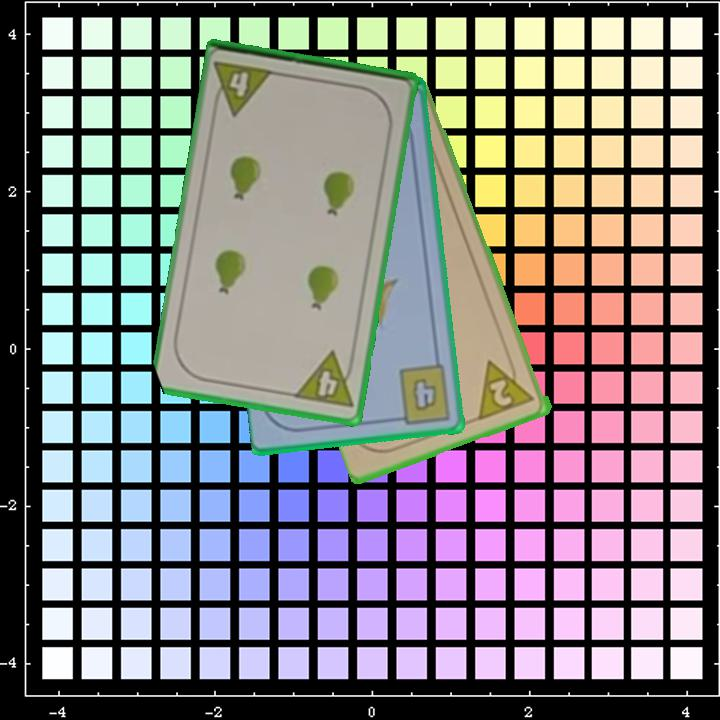2p: (475, 351, 539, 423)
4b: (390, 361, 454, 427)
4p: (291, 348, 359, 412), (209, 57, 277, 118)
